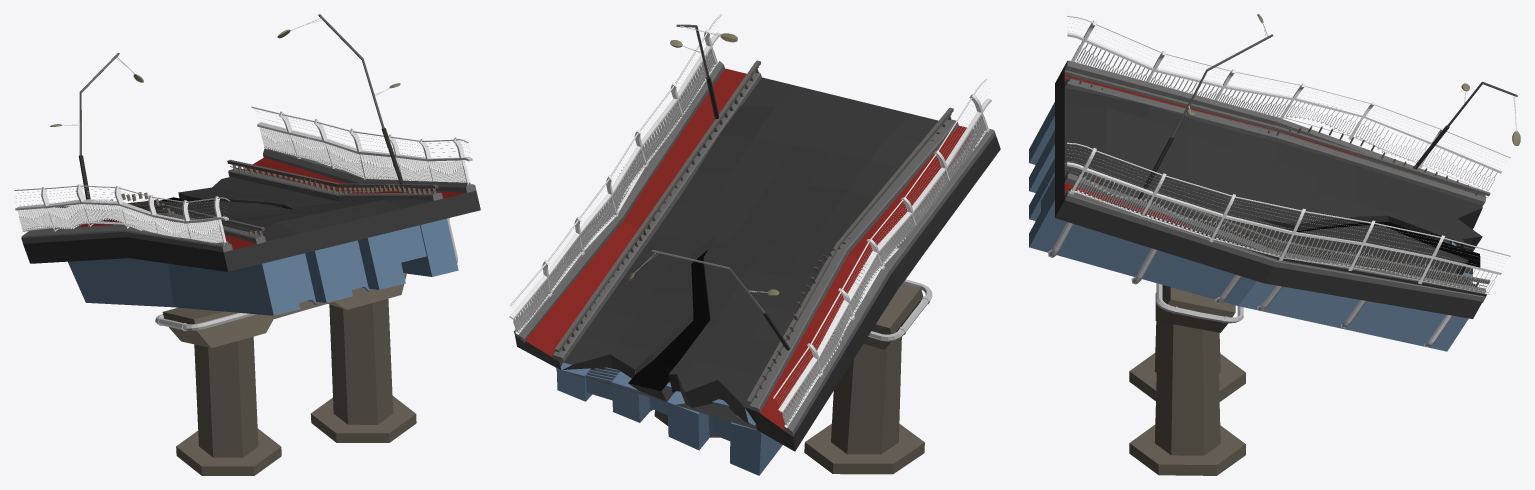
File: bridge_block_break_start.fbx
The picture shows the model from 3 angles, left to right: view 1: azimuth 30°, elevation 25°; view 2: azimuth 150°, elevation 25°; view 3: azimuth 270°, elevation 25°; orthographic projection. The views are drawn at different scales.
Parts seen in each view (by area): view 1: BrokenBridgeEnter; view 2: BrokenBridgeEnter; view 3: BrokenBridgeEnter.
Part boxes in pixels (left/top/right/bottom): BrokenBridgeEnter: left=14, top=14, right=480, bottom=475; BrokenBridgeEnter: left=509, top=14, right=1000, bottom=475; BrokenBridgeEnter: left=1029, top=14, right=1520, bottom=475.
Size of the model in its own units: 1421 by 1975 by 2110.
